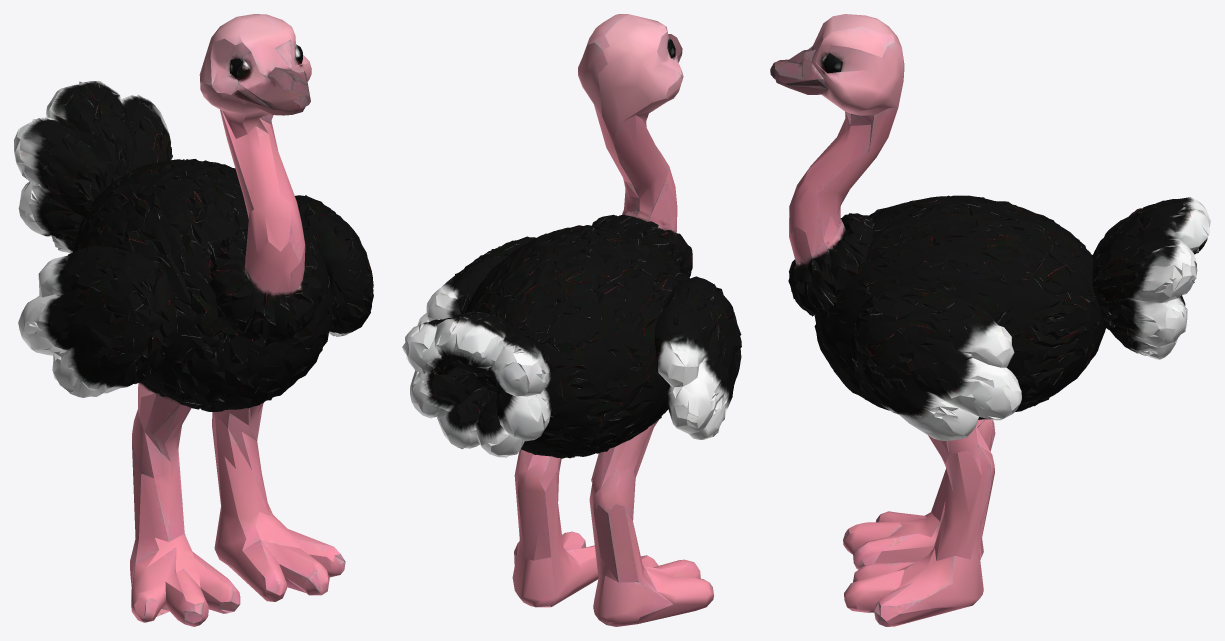
The model's file is struisvogel.glb.
The picture shows the model from 3 angles, left to right: view 1: azimuth 30°, elevation 25°; view 2: azimuth 150°, elevation 25°; view 3: azimuth 270°, elevation 25°; orthographic projection. The views are drawn at different scales.
Visible parts, largest first — view 1: Mesh_0; view 2: Mesh_0; view 3: Mesh_0.
Part boxes in pixels (box(x1,y1,x2,y2)): Mesh_0: box(14, 14, 373, 626); Mesh_0: box(402, 14, 741, 626); Mesh_0: box(770, 14, 1210, 626).
Size of the model in its own units: 1.06 by 1.9 by 1.34.
1 material, 1 textured.
